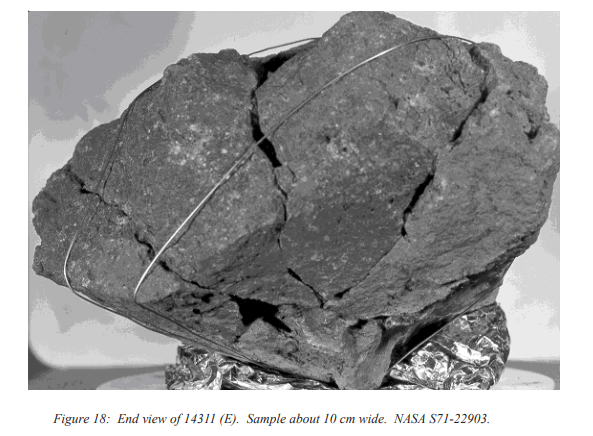Breccia: (42, 176, 498, 381), (108, 140, 465, 338), (167, 67, 552, 208)
